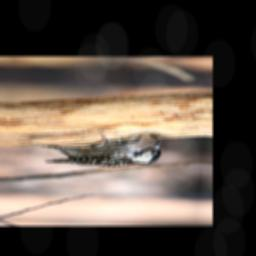Woodpecker: (39, 132, 164, 168)
